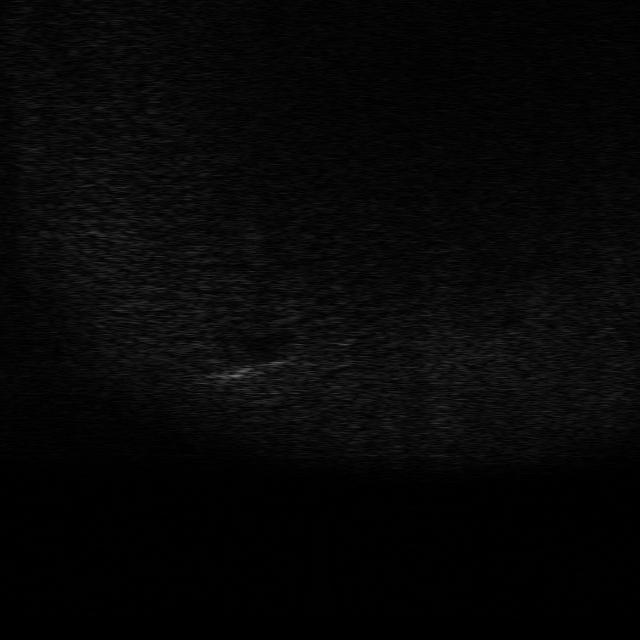plane: (212, 350, 298, 387)
